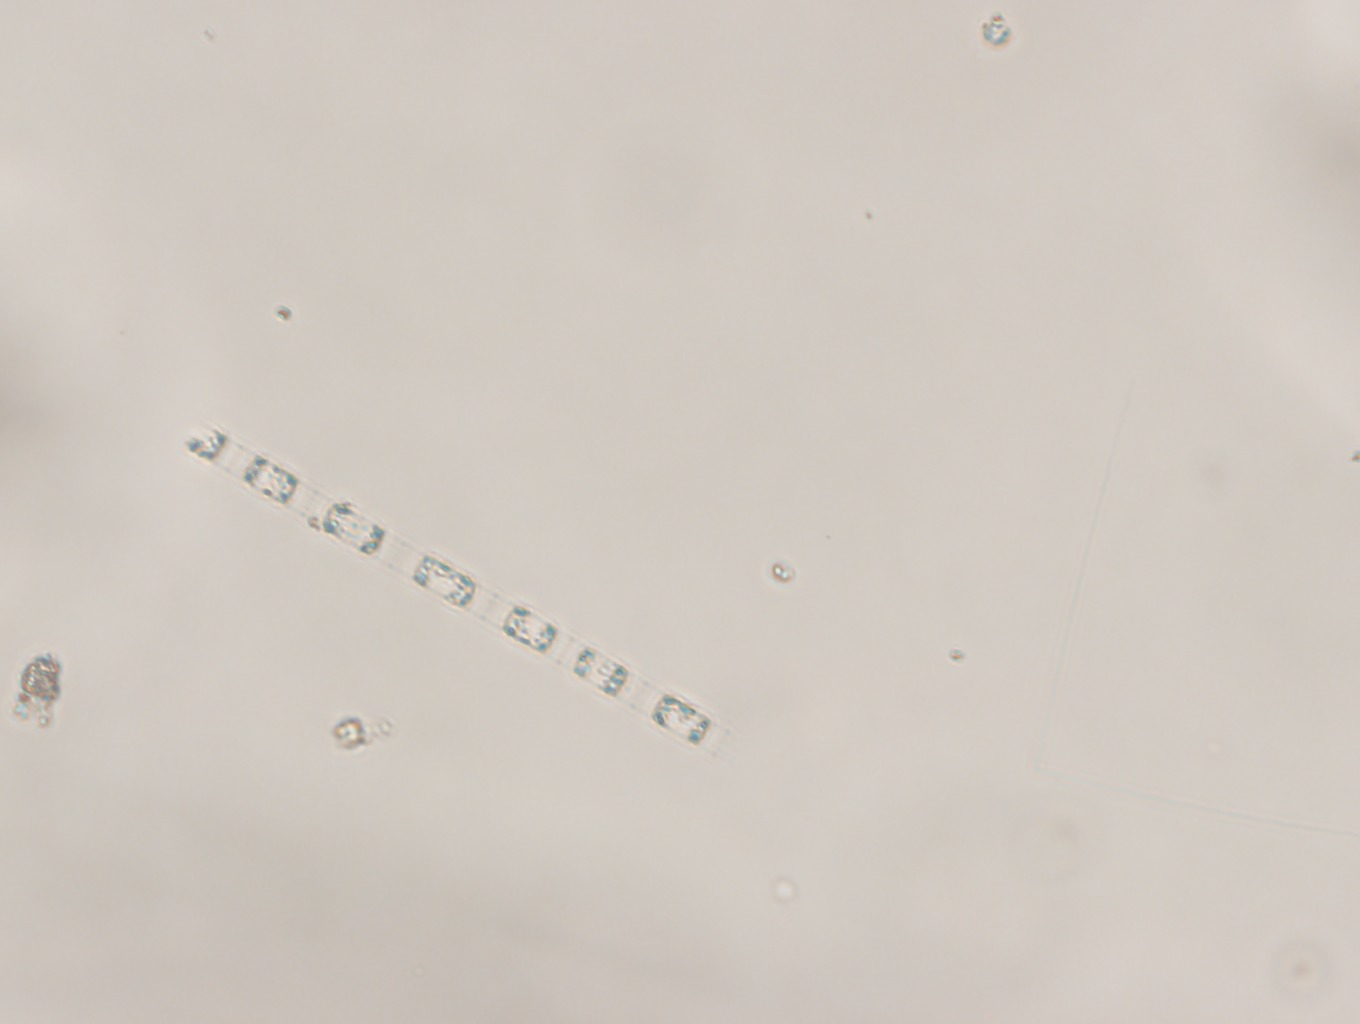skeletonema: (176, 418, 728, 765)
